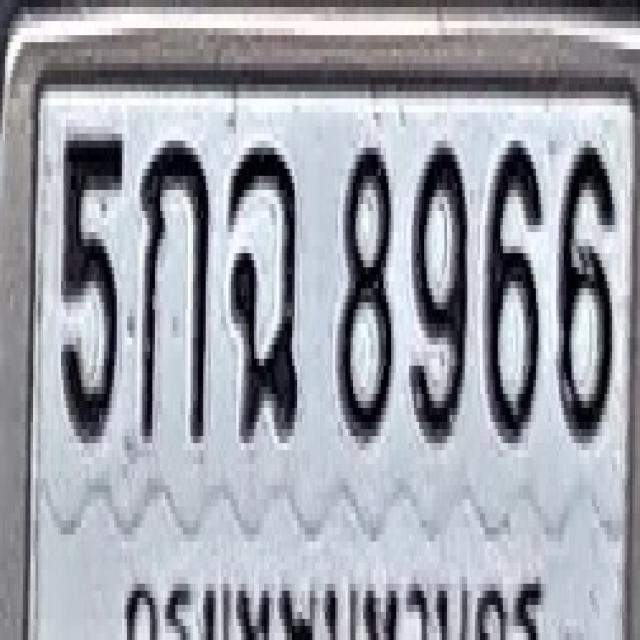5: (61, 130, 122, 440)
6: (485, 134, 541, 443), (558, 141, 614, 443)
8: (337, 141, 392, 443)
9: (409, 141, 467, 443)
A01: (138, 134, 210, 443)
A09: (228, 137, 298, 440)
